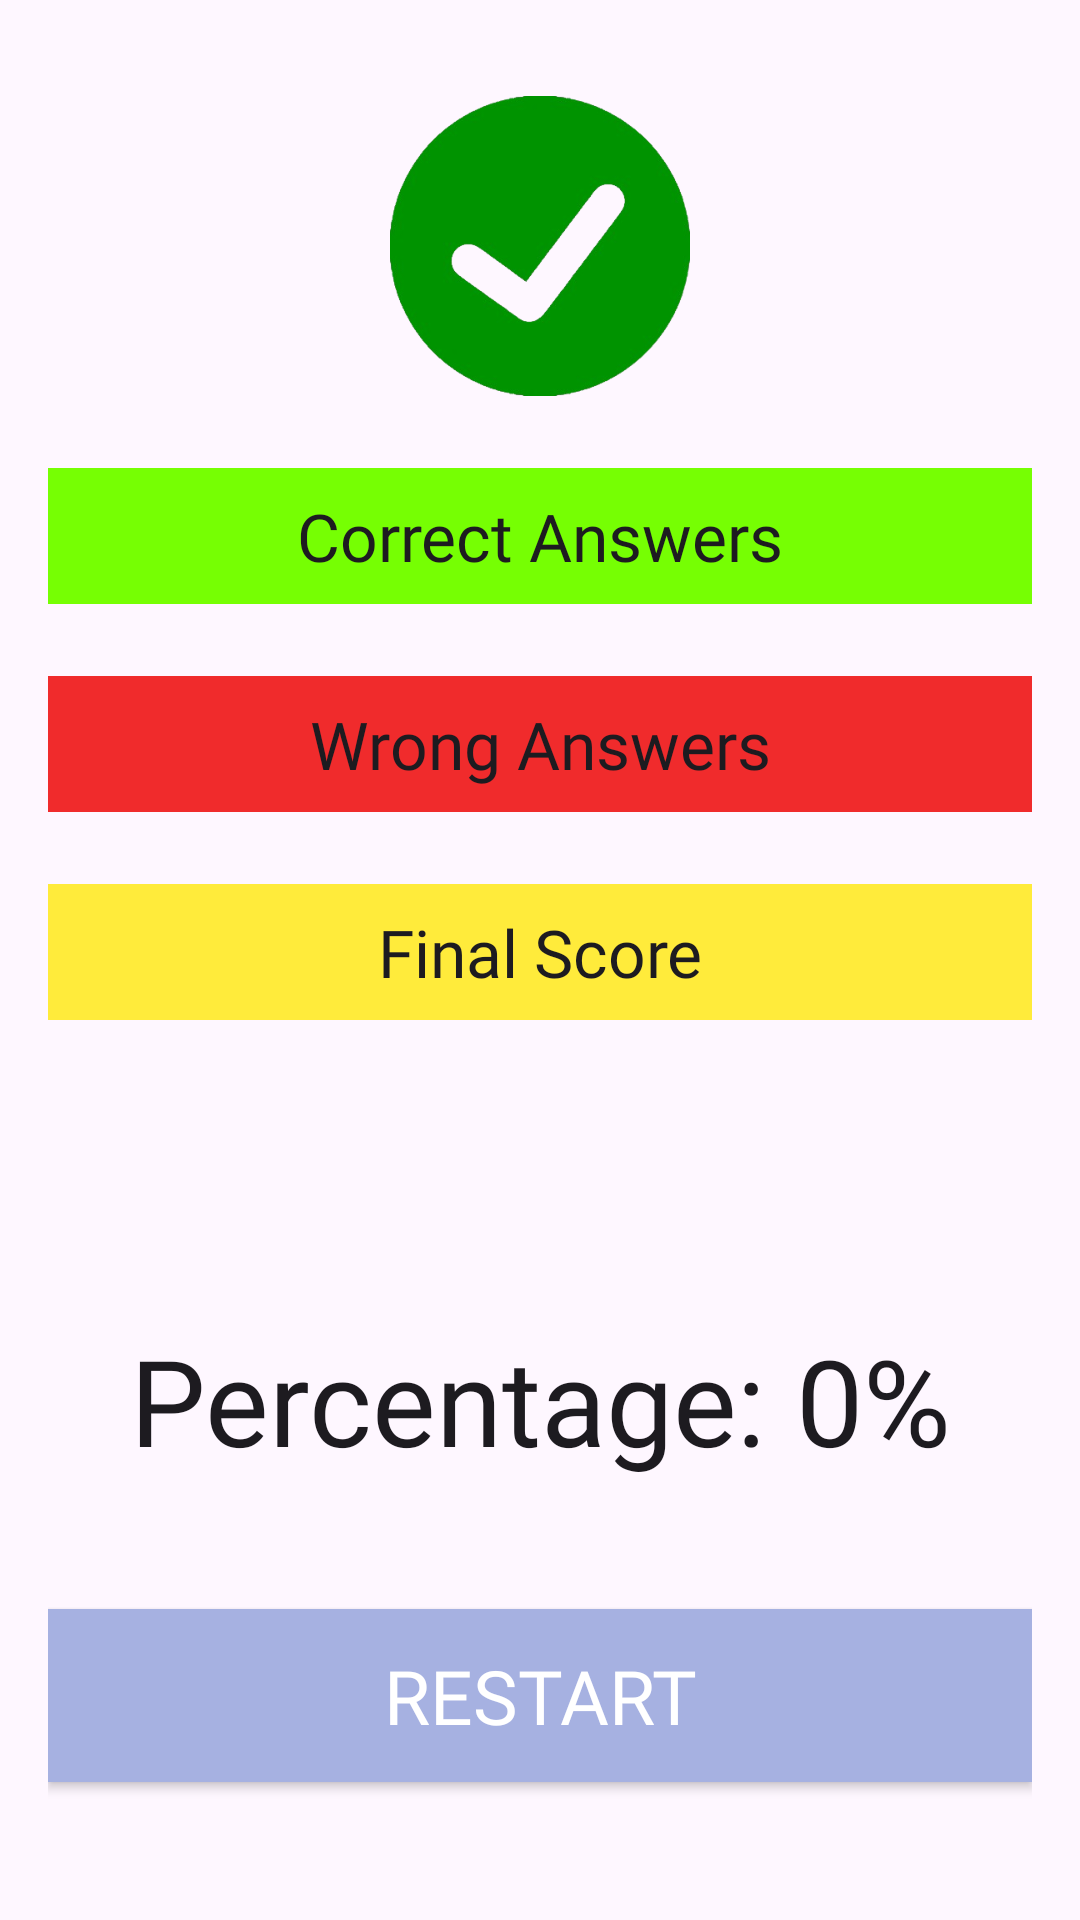

Screen size 1080px x 1920px. Icon name, then its center in pixels as (x,y):
markk: (540,246)
